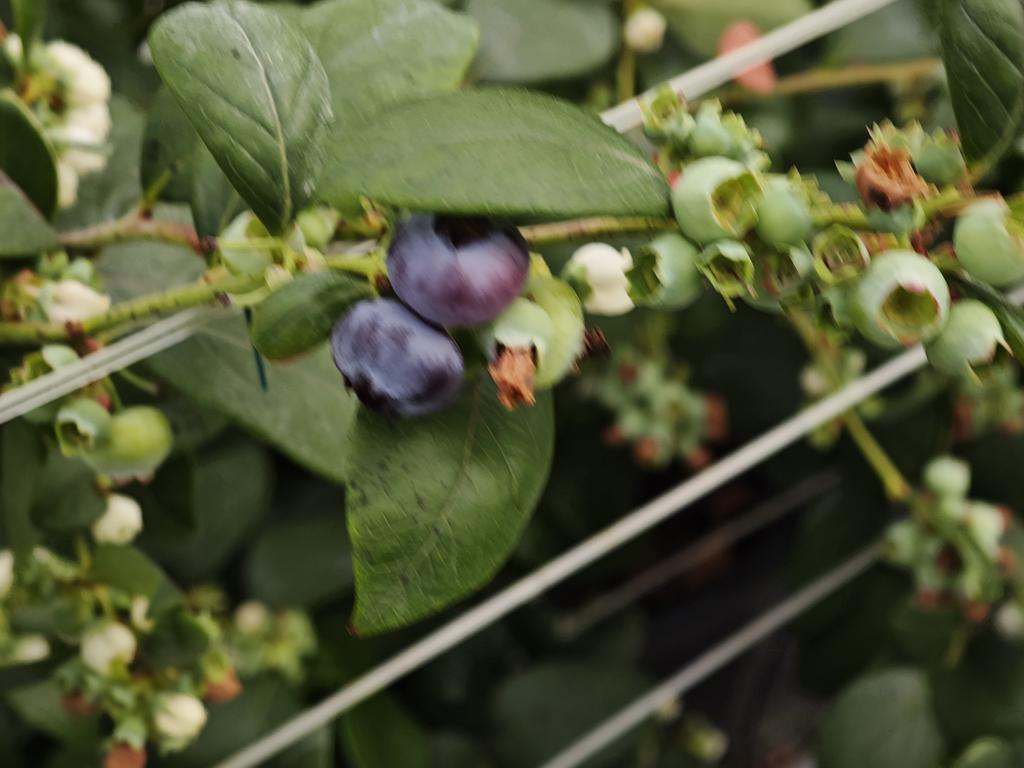RipeBlueBerry: (385, 213, 524, 328), (331, 298, 465, 417)
